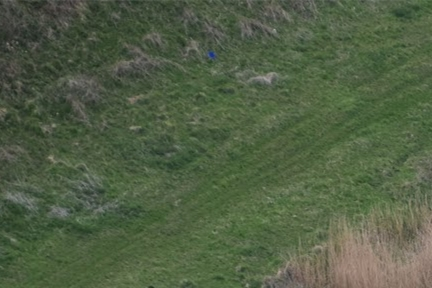white_in_green: (195, 38, 226, 70)
